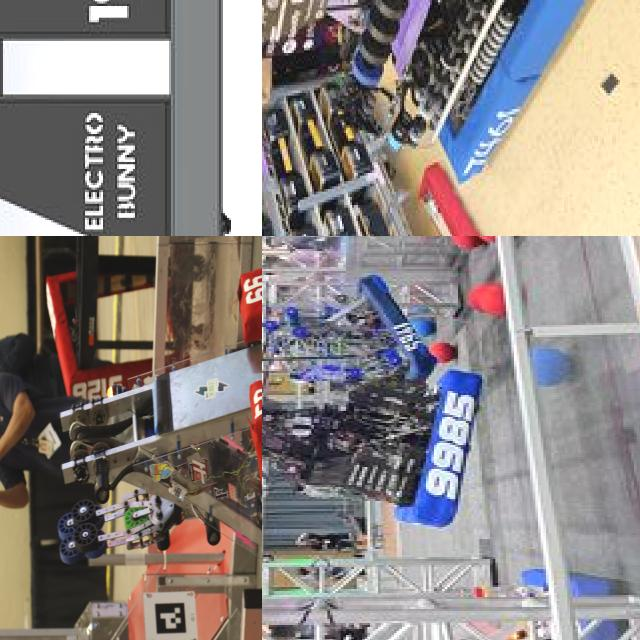FRC-Robots: (9, 247, 262, 640), (262, 0, 640, 195), (0, 0, 262, 236), (262, 360, 479, 544), (262, 267, 431, 397)
